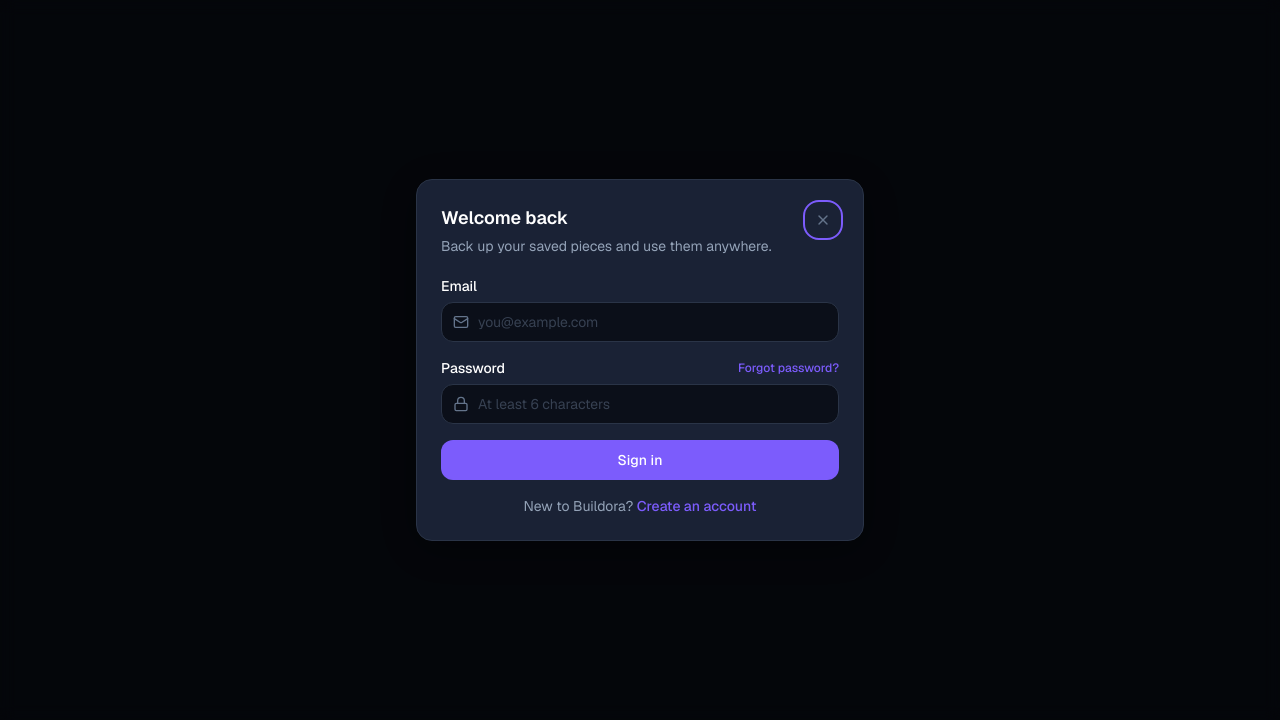
Test: AuthDialog › toggles between sign-in and sign-up modes
What coordinates should you click on to do the following:
click the button "Create an account"
I would click on:
 (697, 506)
Its box is [637,496,756,516].
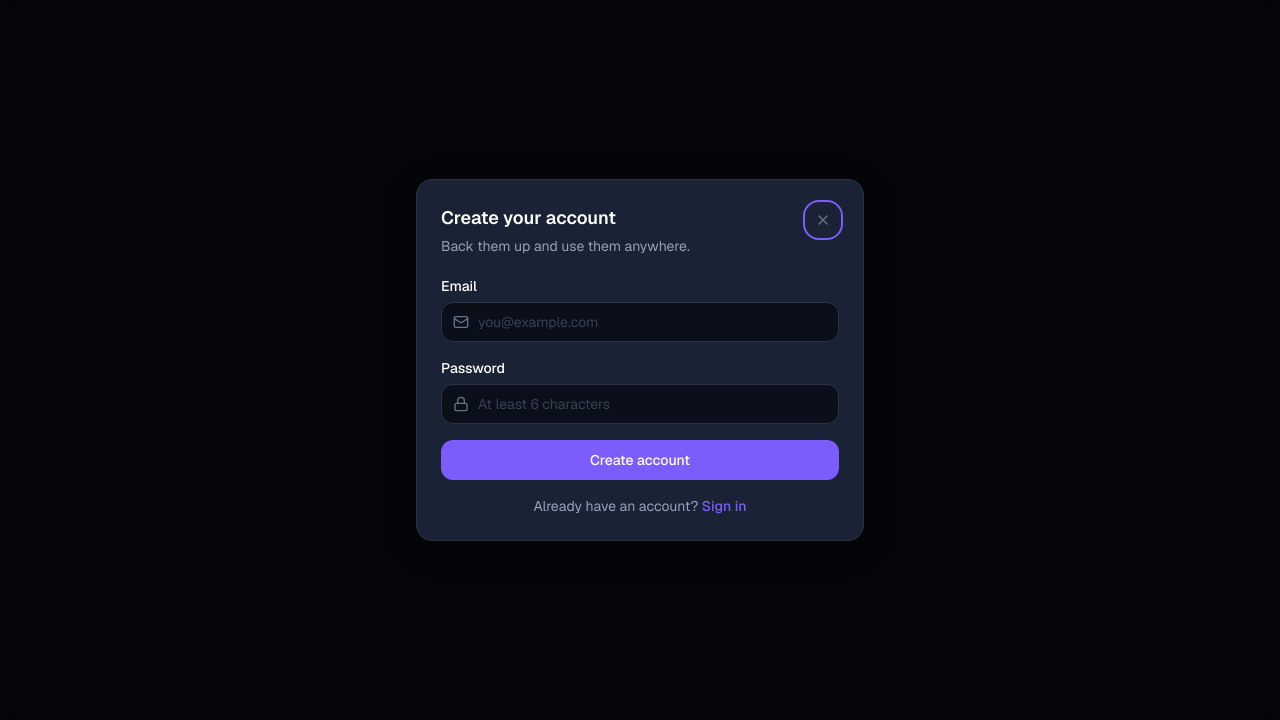
Result: the heading "Create your account" is shown at [441,206,616,229]
Result: the button "Create account" is shown at [441,440,839,480]
What coordinates should you click on to do the following:
click the button "Sign in"
I would click on:
 (724, 506)
Its box is [702,496,747,516].
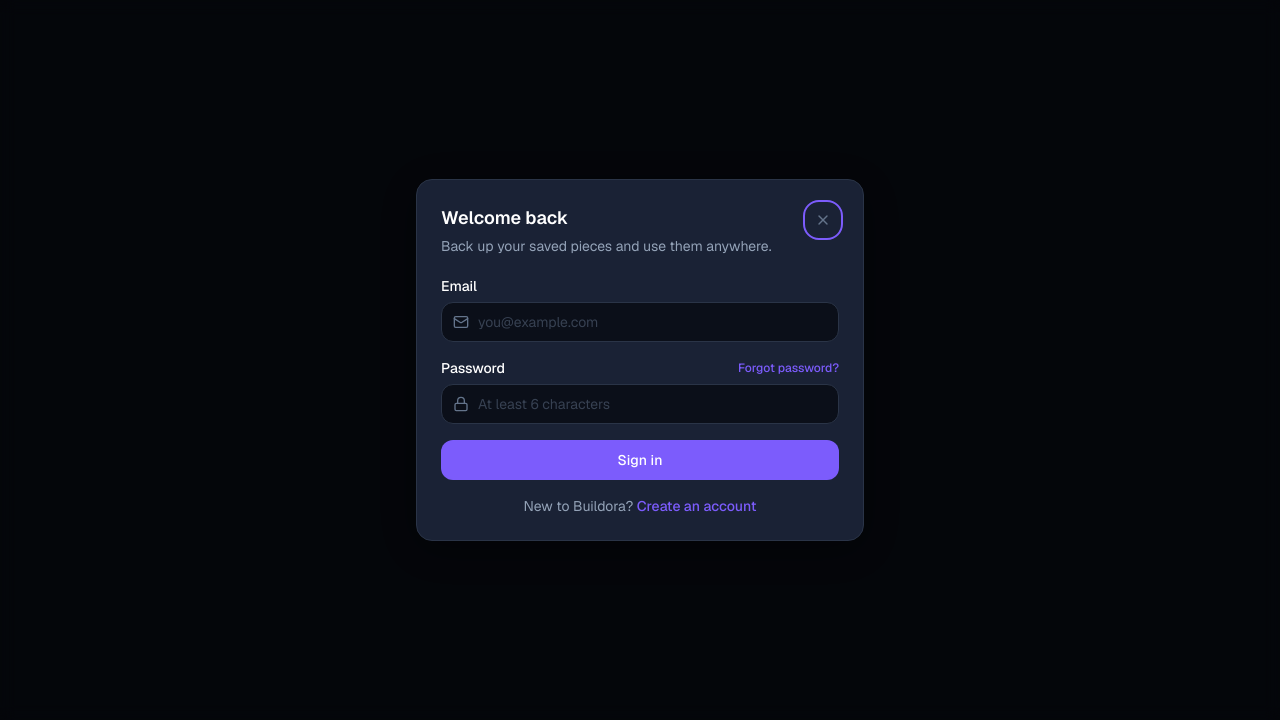
Result: the heading "Welcome back" is shown at [441,206,568,229]
